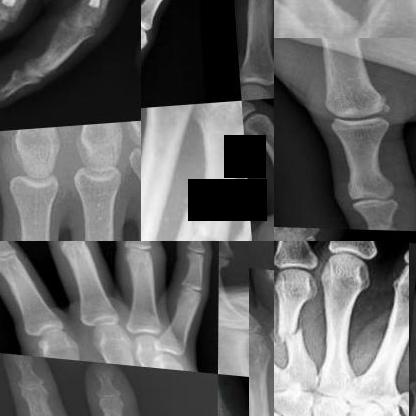fracture: (165, 190, 233, 240), (331, 0, 415, 39), (277, 310, 322, 353), (71, 0, 135, 24), (0, 0, 71, 18), (219, 301, 248, 333), (357, 212, 406, 228), (222, 213, 249, 240), (274, 313, 286, 359)
